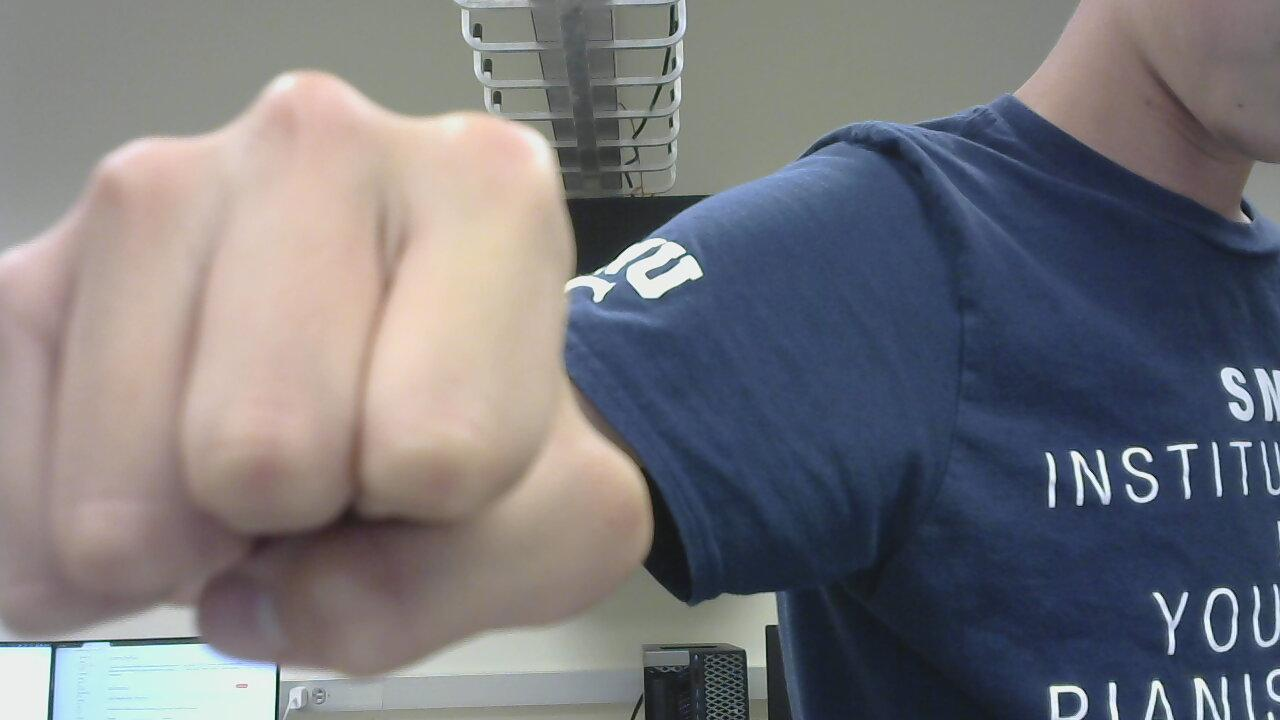fist: (0, 48, 651, 689)
